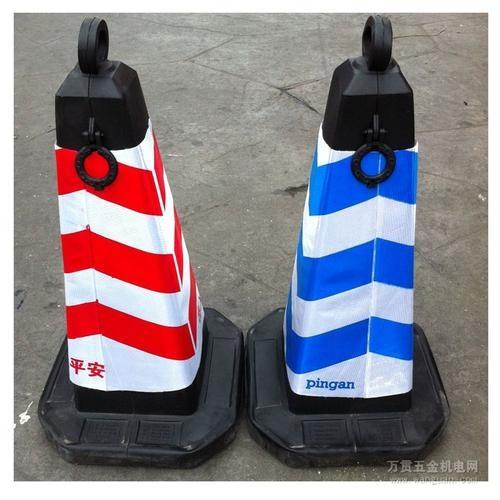cone_barrel: (26, 9, 235, 449), (256, 18, 449, 442)
